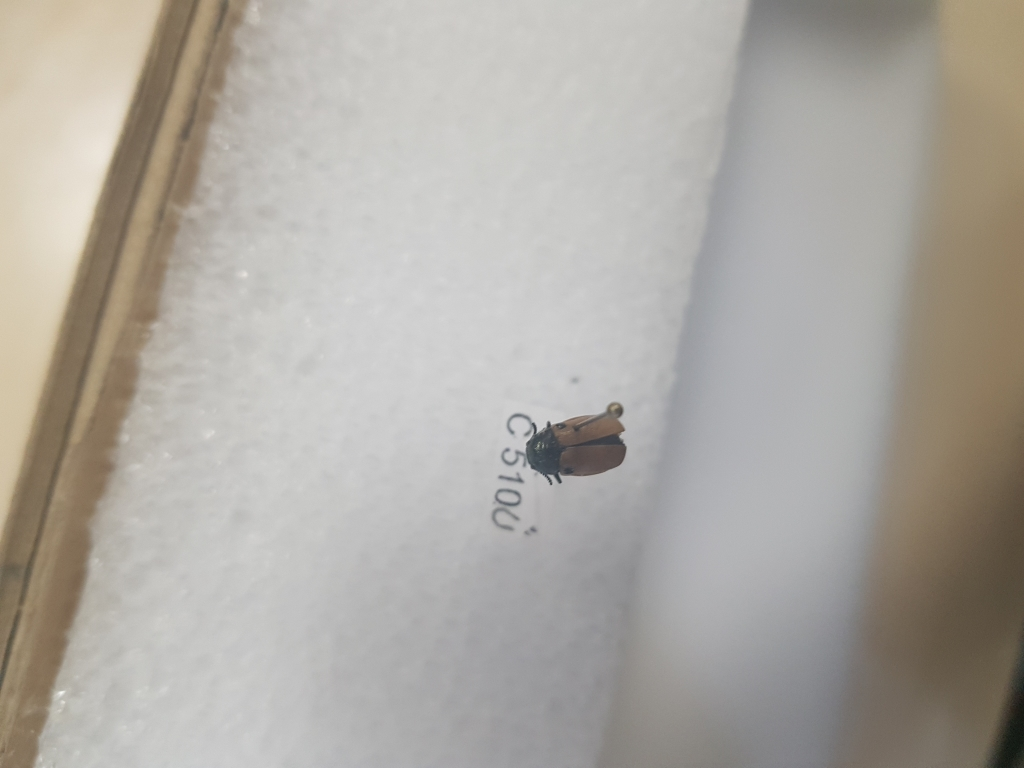Labidostomis_longimana: (523, 408, 631, 482)
